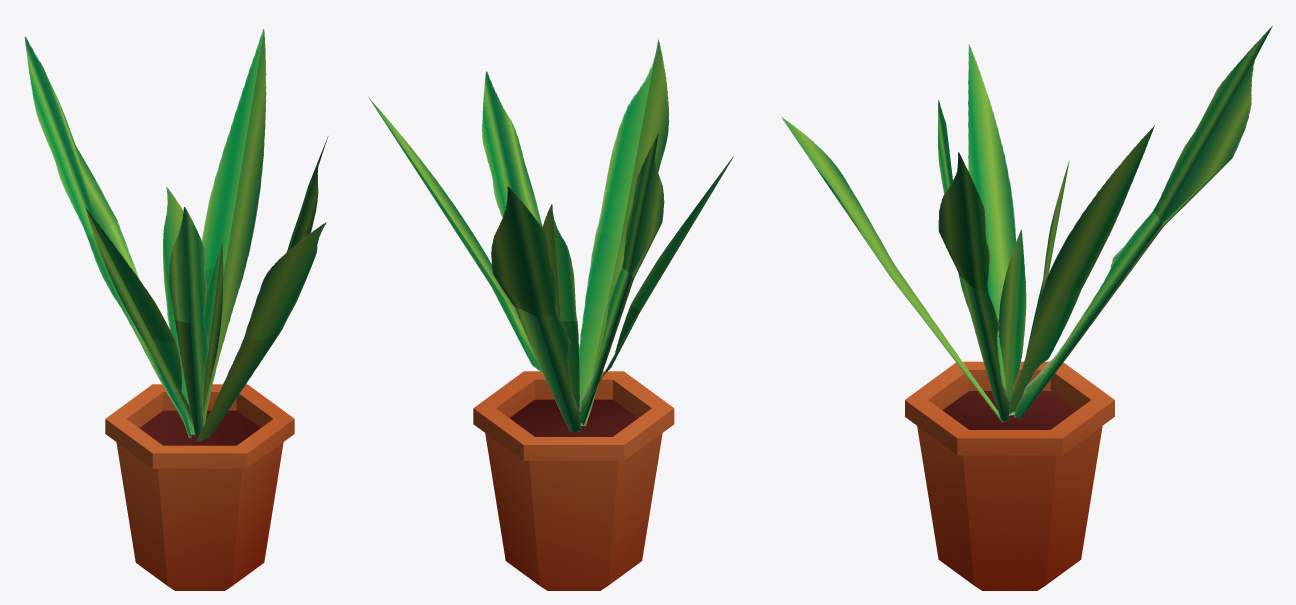
The model's file is SM_PlantPot_2.fbx.
The picture shows the model from 3 angles, left to right: view 1: azimuth 30°, elevation 25°; view 2: azimuth 150°, elevation 25°; view 3: azimuth 270°, elevation 25°; orthographic projection. The views are drawn at different scales.
Visible parts, largest first — view 1: Cylinder, T_Grass_Flower.014, T_Grass_Flower.013, T_Grass_Flower.002, T_Grass_Flower.001, T_Grass_Flower.004, T_Grass_Flower.012, T_Grass_Flower.003, T_Grass_Flower.005; view 2: Cylinder, T_Grass_Flower.002, T_Grass_Flower.013, T_Grass_Flower.001, T_Grass_Flower.005, T_Grass_Flower.014, T_Grass_Flower.003, T_Grass_Flower.004; view 3: Cylinder, T_Grass_Flower.013, T_Grass_Flower.014, T_Grass_Flower.005, T_Grass_Flower.004, T_Grass_Flower.002, T_Grass_Flower.012, T_Grass_Flower.001, T_Grass_Flower.003.
Part boxes in pixels (left/top/right/bottom): Cylinder: left=105, top=384, right=294, bottom=590; T_Grass_Flower.014: left=193, top=29, right=266, bottom=433; T_Grass_Flower.013: left=24, top=36, right=194, bottom=437; T_Grass_Flower.002: left=196, top=222, right=326, bottom=441; T_Grass_Flower.001: left=168, top=207, right=208, bottom=439; T_Grass_Flower.004: left=86, top=208, right=194, bottom=429; T_Grass_Flower.012: left=203, top=241, right=223, bottom=413; T_Grass_Flower.003: left=163, top=187, right=194, bottom=434; T_Grass_Flower.005: left=206, top=136, right=328, bottom=438; Cylinder: left=473, top=371, right=674, bottom=590; T_Grass_Flower.002: left=579, top=39, right=669, bottom=425; T_Grass_Flower.013: left=491, top=186, right=581, bottom=432; T_Grass_Flower.001: left=580, top=133, right=664, bottom=425; T_Grass_Flower.005: left=482, top=71, right=542, bottom=227; T_Grass_Flower.014: left=368, top=97, right=543, bottom=374; T_Grass_Flower.003: left=542, top=204, right=579, bottom=409; T_Grass_Flower.004: left=580, top=156, right=733, bottom=415; Cylinder: left=905, top=361, right=1114, bottom=590; T_Grass_Flower.013: left=1014, top=26, right=1272, bottom=419; T_Grass_Flower.014: left=1009, top=125, right=1154, bottom=413; T_Grass_Flower.005: left=938, top=152, right=1009, bottom=421; T_Grass_Flower.004: left=968, top=44, right=1016, bottom=415; T_Grass_Flower.002: left=781, top=117, right=1002, bottom=422; T_Grass_Flower.012: left=998, top=229, right=1026, bottom=412; T_Grass_Flower.001: left=938, top=100, right=969, bottom=311; T_Grass_Flower.003: left=1014, top=160, right=1069, bottom=417.
Bounding box in the file's own units: 0.3419 × 0.5769 × 0.508.
